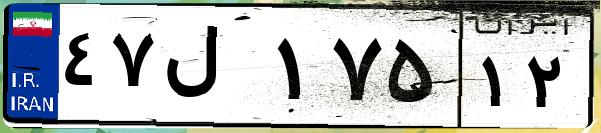1: (270, 28, 330, 110), (475, 38, 525, 113)
2: (525, 38, 570, 115)
4: (57, 26, 110, 100)
5: (385, 28, 445, 110)
7: (330, 28, 385, 110), (110, 28, 158, 98)
ل: (158, 20, 270, 120)
